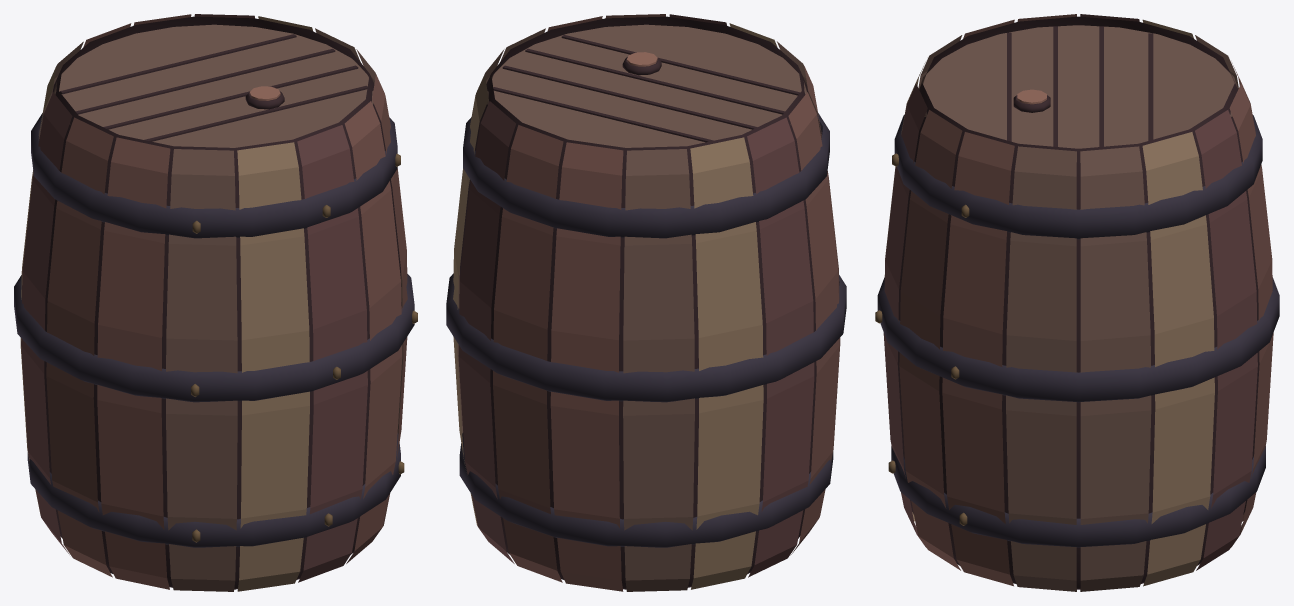
File: barrel.glb
The picture shows the model from 3 angles, left to right: view 1: azimuth 30°, elevation 25°; view 2: azimuth 150°, elevation 25°; view 3: azimuth 270°, elevation 25°; orthographic projection.
Visible parts, largest first — view 1: barrel; view 2: barrel; view 3: barrel.
Boxes of the visible parts, bbox=[...] form: barrel: bbox=[14, 14, 417, 591]; barrel: bbox=[446, 14, 846, 591]; barrel: bbox=[875, 14, 1279, 591].
Size of the model in its own units: 0.596 by 0.72 by 0.5995.
